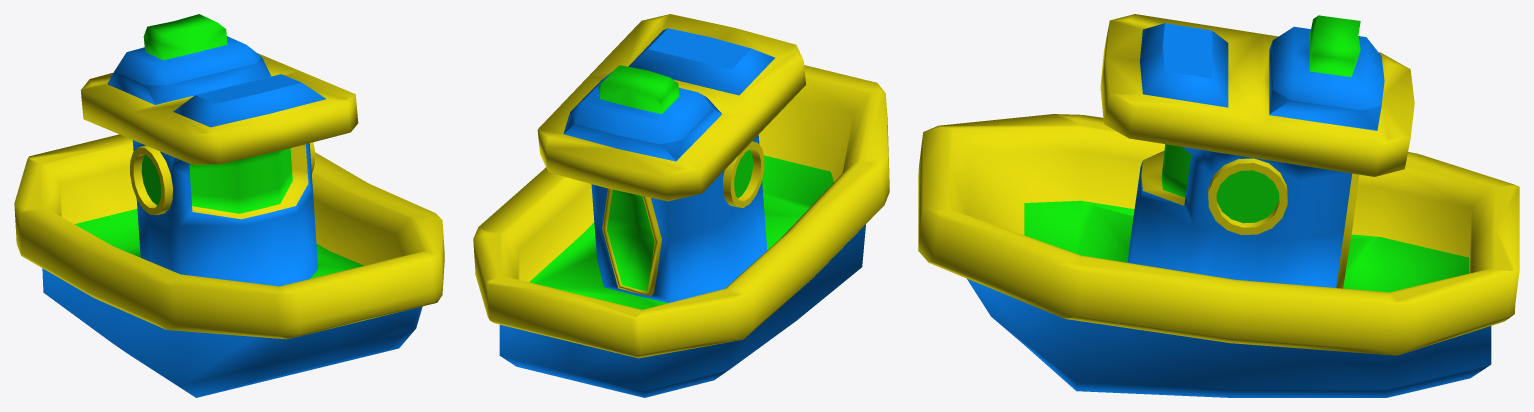
The model's file is Enemy.fbx.
3 renders of one model, left to right at view 1: azimuth 30°, elevation 25°; view 2: azimuth 150°, elevation 25°; view 3: azimuth 270°, elevation 25°, orthographic. The views are drawn at different scales.
Visible parts, largest first — view 1: Enemy; view 2: Enemy; view 3: Enemy.
Boxes of the visible parts, x1=… form: Enemy: x1=14, y1=14, x2=444, y2=397; Enemy: x1=473, y1=14, x2=889, y2=397; Enemy: x1=918, y1=14, x2=1519, y2=397.
Size of the model in its own units: 220 by 203 by 354.
